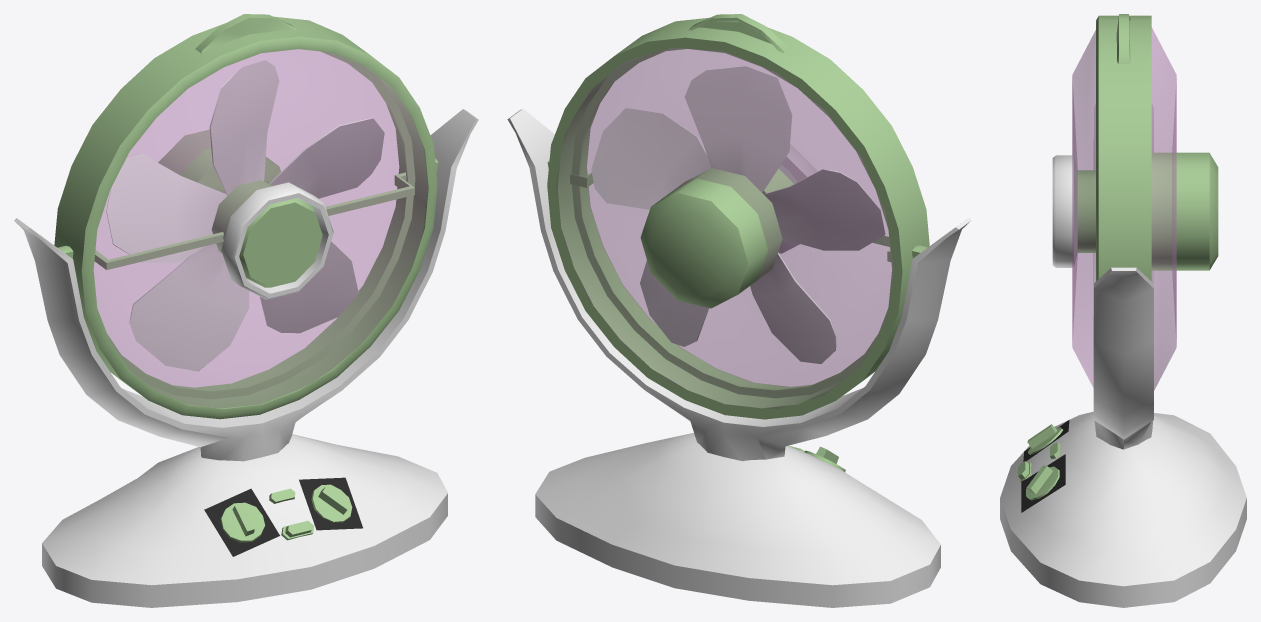
Rendered from MIDEAKYT306C.FBX.
3 views of the same model, side by side, from view 1: azimuth 30°, elevation 25°; view 2: azimuth 150°, elevation 25°; view 3: azimuth 270°, elevation 25° (orthographic). The views are drawn at different scales.
Parts seen in each view (by area): view 1: MIDEAKYT306C; view 2: MIDEAKYT306C; view 3: MIDEAKYT306C.
Boxes of the visible parts, x1=… form: MIDEAKYT306C: x1=14, y1=14, x2=478, y2=607; MIDEAKYT306C: x1=507, y1=14, x2=971, y2=607; MIDEAKYT306C: x1=1000, y1=14, x2=1246, y2=607.
Bounding box in the file's own units: 47.7 × 23.7 × 53.
